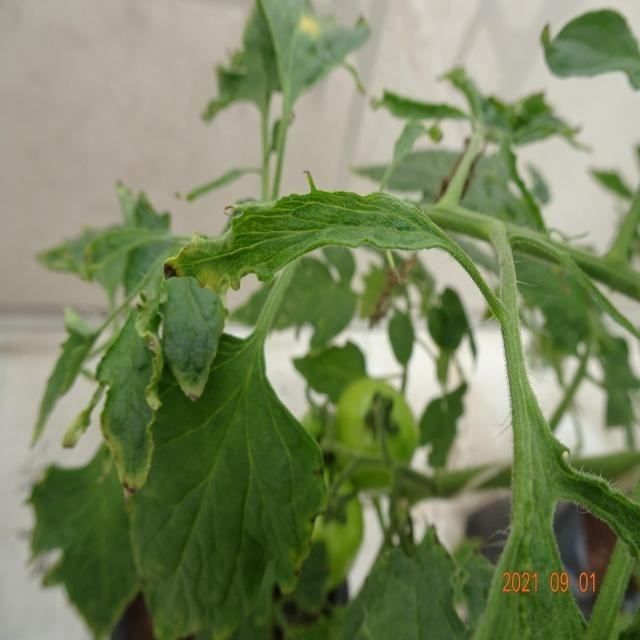T_L_R: (130, 331, 327, 639), (165, 191, 501, 319), (97, 309, 165, 494)
T_S_R: (422, 207, 583, 486)
